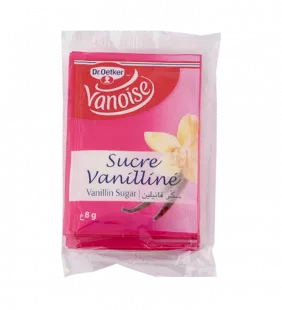Promotion: (51, 19, 229, 285)
